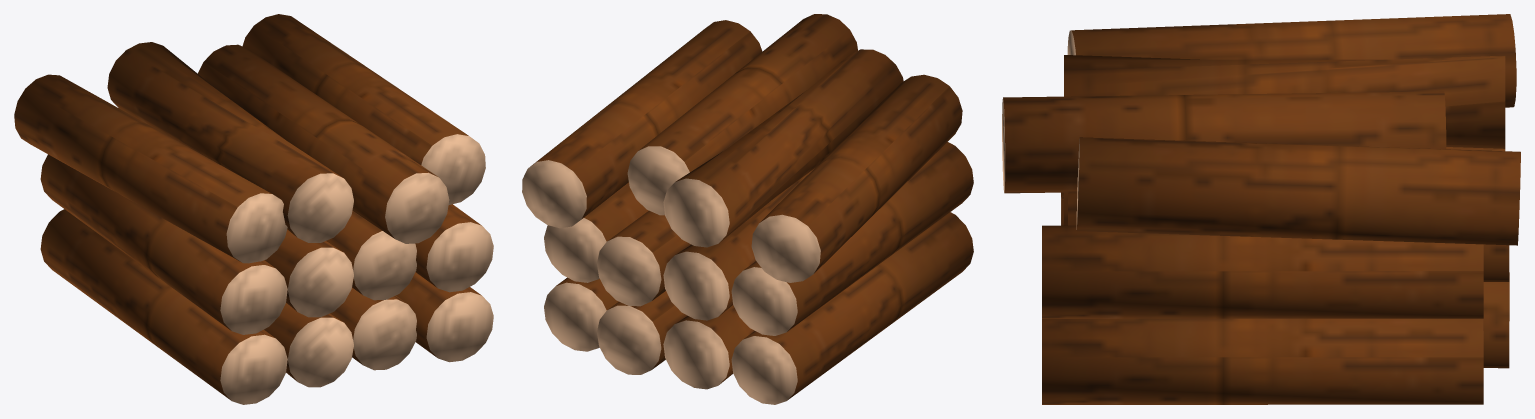
File: Madeira_Lenha.fbx
The picture shows the model from 3 angles, left to right: view 1: azimuth 30°, elevation 25°; view 2: azimuth 150°, elevation 25°; view 3: azimuth 270°, elevation 25°; orthographic projection. The views are drawn at different scales.
Parts seen in each view (by area): view 1: Firewood; view 2: Firewood; view 3: Firewood.
Boxes of the visible parts, x1=… form: Firewood: x1=14, y1=14, x2=493, y2=404; Firewood: x1=522, y1=14, x2=973, y2=404; Firewood: x1=1002, y1=14, x2=1520, y2=404.
Size of the model in its own units: 416 by 286 by 509.
